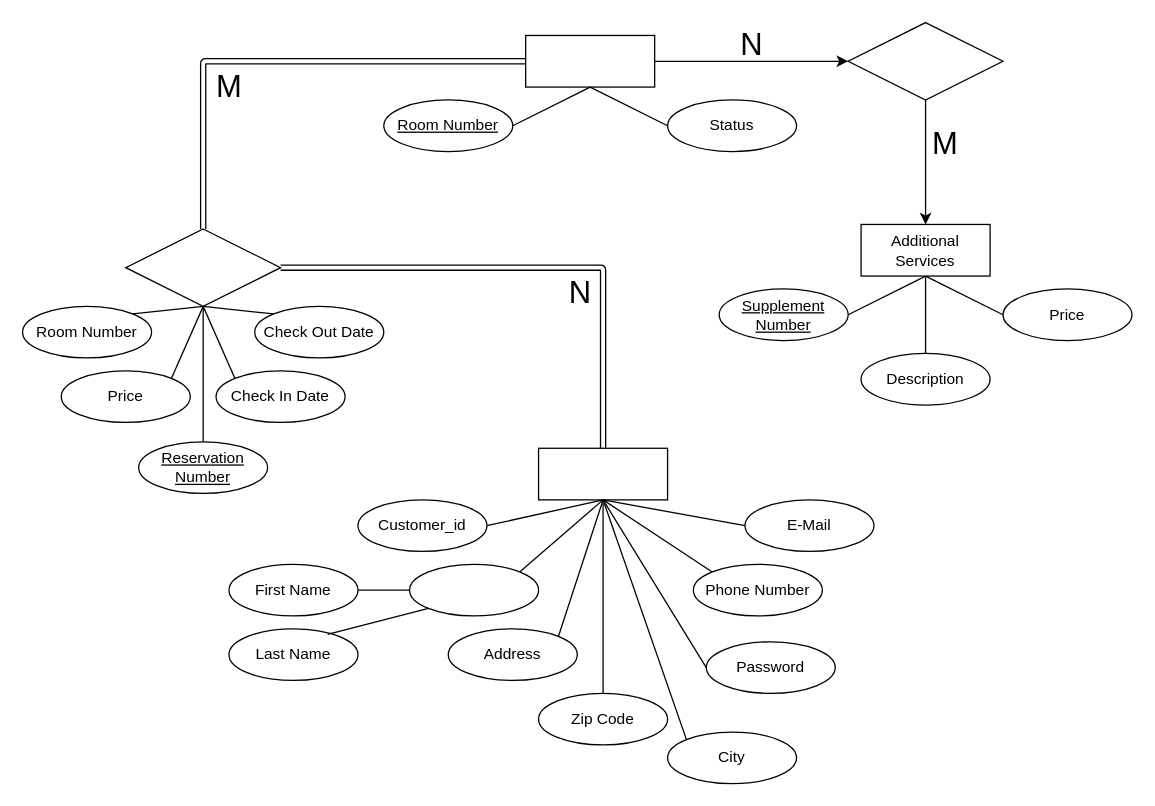
Some shapes in this 1155 by 806 pixel diagram are drawn without their labels. The centre of each missing label's shape, as x and y in pixels:
Booking: [202,267]
Customer: [602,473]
Inherits: [925,60]
Name: [473,589]
Room: [589,60]
